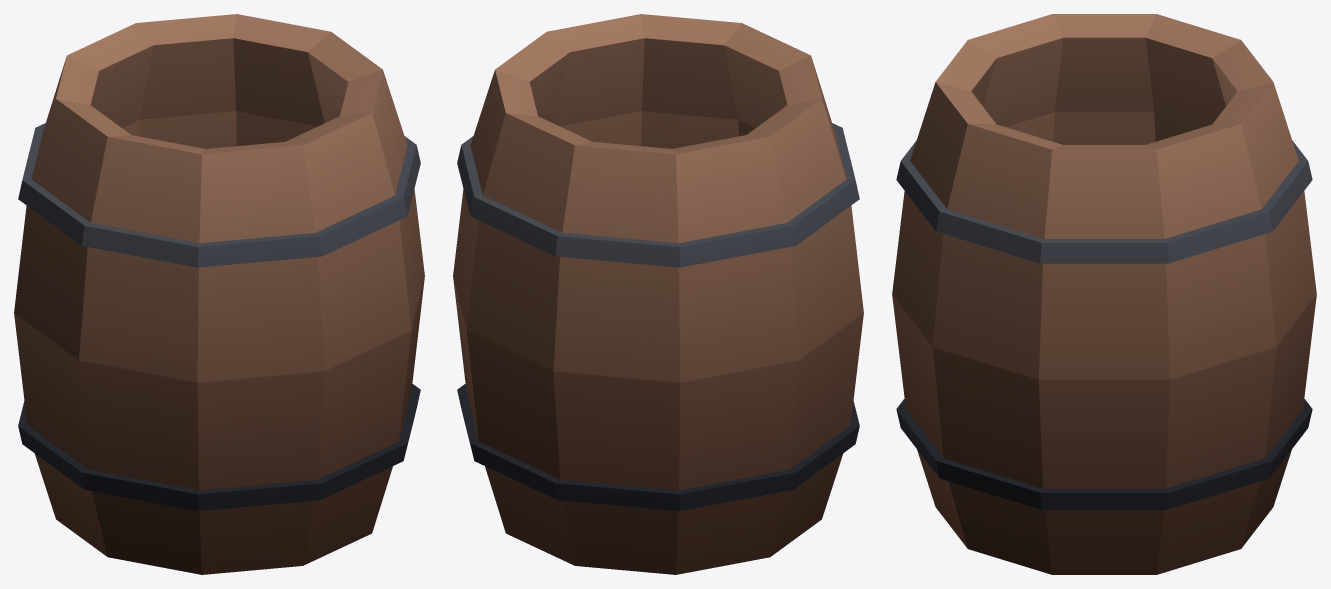
The model's file is beczka3.fbx.
The picture shows the model from 3 angles, left to right: view 1: azimuth 30°, elevation 25°; view 2: azimuth 150°, elevation 25°; view 3: azimuth 270°, elevation 25°; orthographic projection.
Parts seen in each view (by area): view 1: beczka3; view 2: beczka3; view 3: beczka3.
Boxes of the visible parts, x1,y1,x2,y2 form: beczka3: (14, 14, 424, 574); beczka3: (453, 14, 863, 574); beczka3: (892, 14, 1316, 574).
Size of the model in its own units: 104 by 121 by 109.
